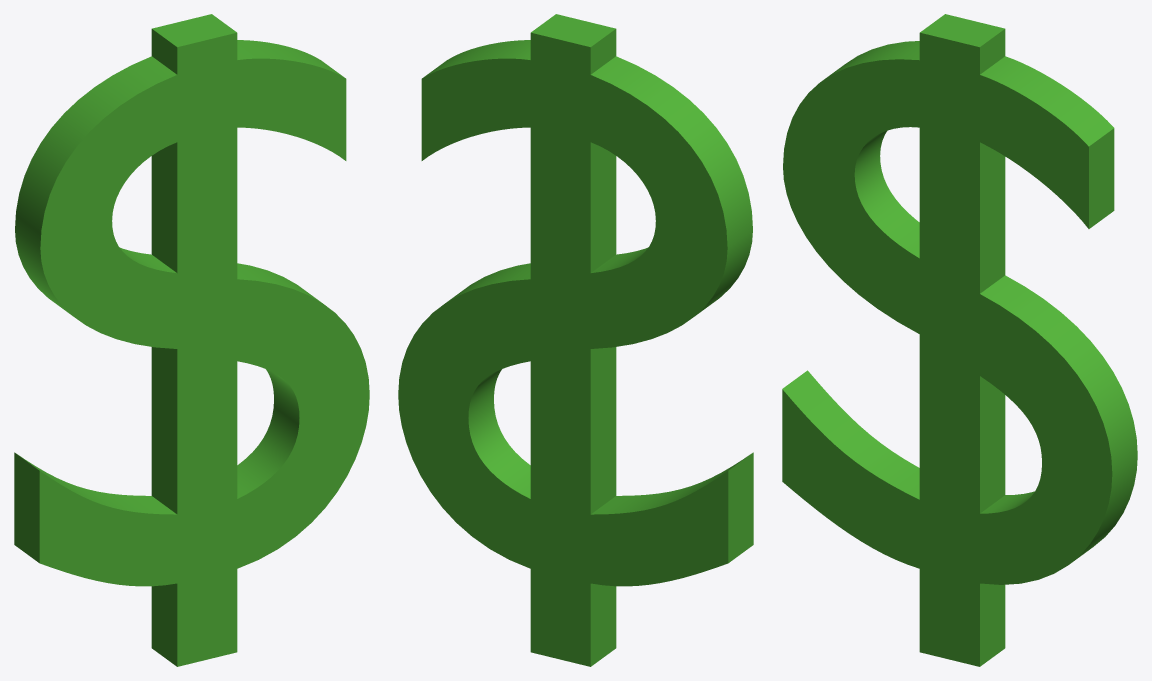
File: 2.dollar.fbx
The picture shows the model from 3 angles, left to right: view 1: azimuth 30°, elevation 25°; view 2: azimuth 150°, elevation 25°; view 3: azimuth 330°, elevation 25°; orthographic projection.
Parts seen in each view (by area): view 1: $; view 2: $; view 3: $.
Part boxes in pixels (bbox=[...]): $: bbox=[14, 14, 369, 666]; $: bbox=[398, 14, 753, 666]; $: bbox=[782, 14, 1137, 666].
Bounding box in the file's own units: 45.1 × 80.9 × 6.02.
